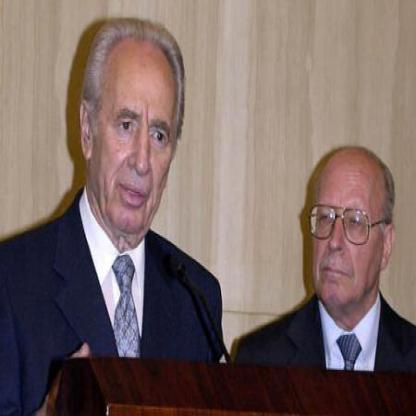face: (93, 28, 179, 238), (307, 145, 388, 311)
